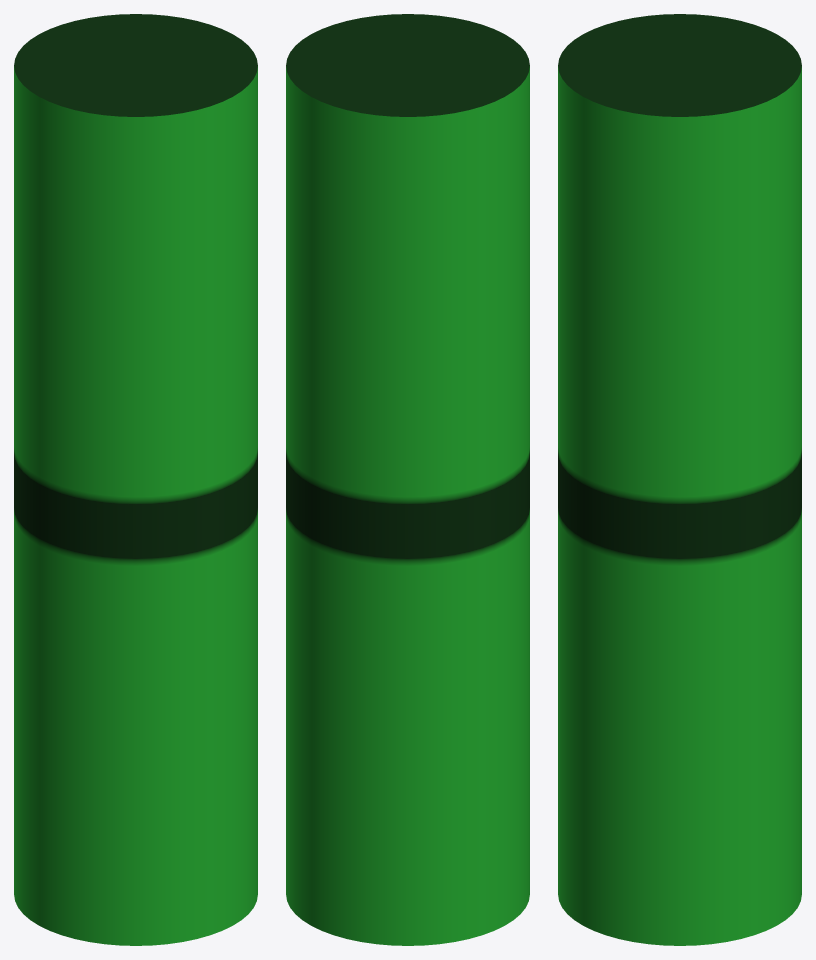
Rendered from lf_lod_post.gltf.
The picture shows the model from 3 angles, left to right: view 1: azimuth 30°, elevation 25°; view 2: azimuth 150°, elevation 25°; view 3: azimuth 270°, elevation 25°; orthographic projection.
Parts seen in each view (by area): view 1: lf_lod_post; view 2: lf_lod_post; view 3: lf_lod_post.
Boxes of the visible parts, left/top/right/bottom form: lf_lod_post: left=14, top=14, right=257, bottom=945; lf_lod_post: left=286, top=14, right=529, bottom=945; lf_lod_post: left=558, top=14, right=801, bottom=945.
Size of what is drawn, in the model's own units: 0.8 by 3 by 0.8.
1 material, 1 textured.
